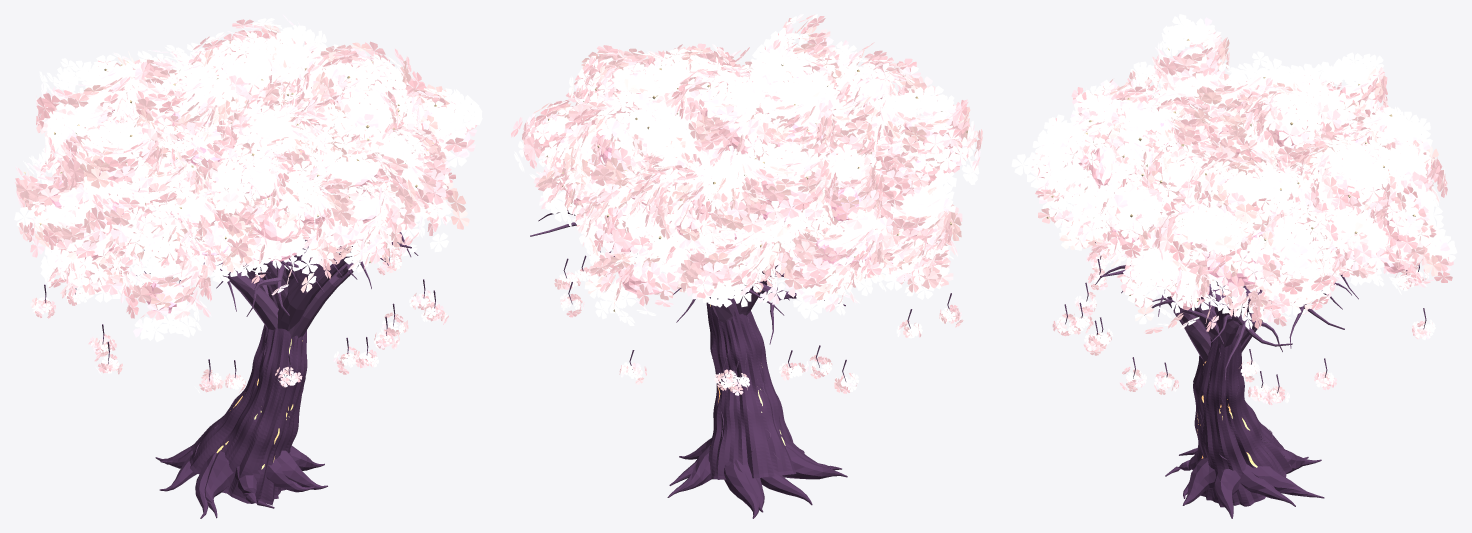
File: r10_sakura_hero.glb
3 views of the same model, side by side, from view 1: azimuth 30°, elevation 25°; view 2: azimuth 150°, elevation 25°; view 3: azimuth 270°, elevation 25° (orthographic). The views are drawn at different scales.
Parts seen in each view (by area): view 1: Sakura_petal_pink, Sakura_petal_blush, Sakura_petal_warm_rose, Sakura_petal_cream, Trunk_bark_plumblack, Branches_plum, Canopy_peach, Canopy_rose, Canopy_depth_rose; view 2: Sakura_petal_pink, Sakura_petal_blush, Sakura_petal_warm_rose, Sakura_petal_cream, Trunk_bark_plumblack, Canopy_peach, Branches_plum, Canopy_rose; view 3: Sakura_petal_pink, Sakura_petal_blush, Sakura_petal_warm_rose, Sakura_petal_cream, Trunk_bark_plumblack, Branches_plum, Canopy_peach, Canopy_rose.
Part boxes in pixels (bbox=[...]): Sakura_petal_pink: bbox=[16, 19, 482, 392]; Sakura_petal_blush: bbox=[14, 22, 481, 392]; Sakura_petal_warm_rose: bbox=[15, 14, 477, 339]; Sakura_petal_cream: bbox=[17, 24, 469, 332]; Trunk_bark_plumblack: bbox=[155, 255, 352, 518]; Branches_plum: bbox=[44, 232, 435, 456]; Canopy_peach: bbox=[74, 59, 411, 278]; Canopy_rose: bbox=[49, 102, 447, 261]; Canopy_depth_rose: bbox=[68, 120, 386, 313]; Sakura_petal_pink: bbox=[522, 16, 980, 395]; Sakura_petal_blush: bbox=[523, 14, 982, 392]; Sakura_petal_warm_rose: bbox=[511, 22, 975, 319]; Sakura_petal_cream: bbox=[533, 14, 970, 308]; Trunk_bark_plumblack: bbox=[667, 264, 847, 518]; Canopy_peach: bbox=[556, 67, 948, 294]; Branches_plum: bbox=[530, 210, 951, 466]; Canopy_rose: bbox=[595, 112, 939, 265]; Sakura_petal_pink: bbox=[1032, 26, 1453, 405]; Sakura_petal_blush: bbox=[1027, 19, 1454, 402]; Sakura_petal_warm_rose: bbox=[1028, 14, 1452, 331]; Sakura_petal_cream: bbox=[1011, 25, 1457, 324]; Trunk_bark_plumblack: bbox=[1165, 299, 1324, 518]; Branches_plum: bbox=[1064, 242, 1426, 460]; Canopy_peach: bbox=[1065, 46, 1410, 310]; Canopy_rose: bbox=[1112, 92, 1361, 285].
Size of the model in its own units: 26.98 by 27.19 by 26.47.
